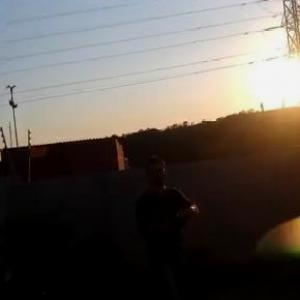follow: (126, 149, 210, 299)
